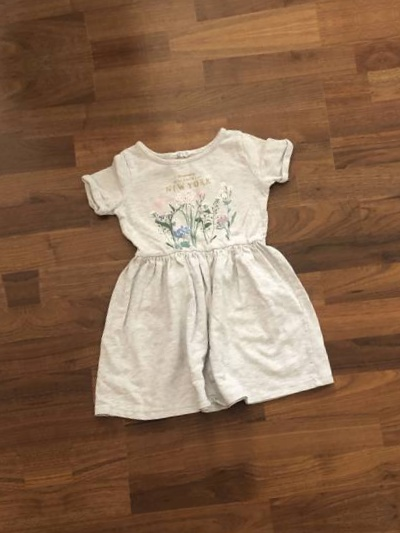Dress: (33, 88, 387, 445), (0, 141, 11, 498)
